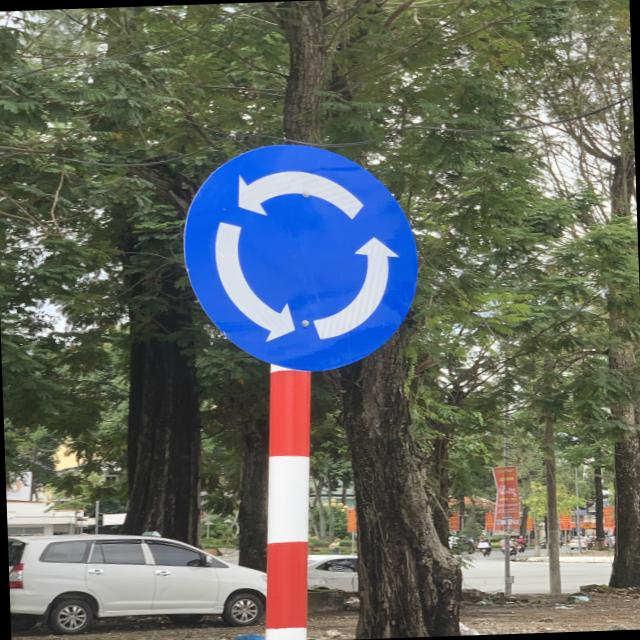Xe_Bus: (182, 137, 421, 376)
